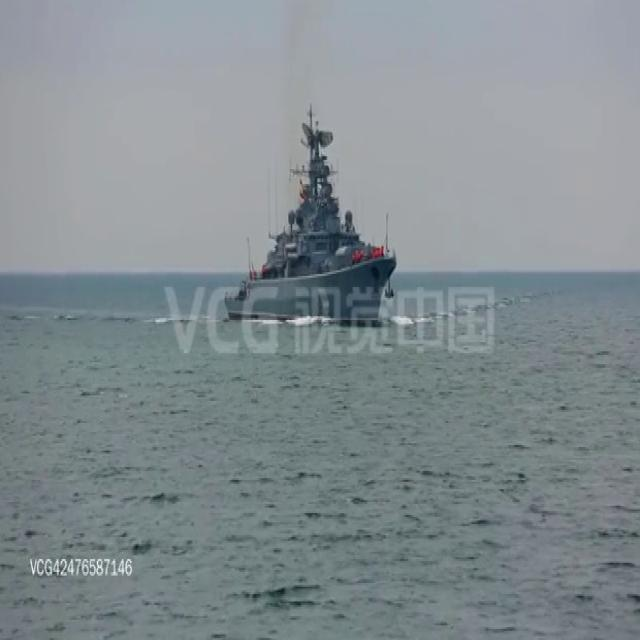navalvessels: (224, 100, 397, 330)
